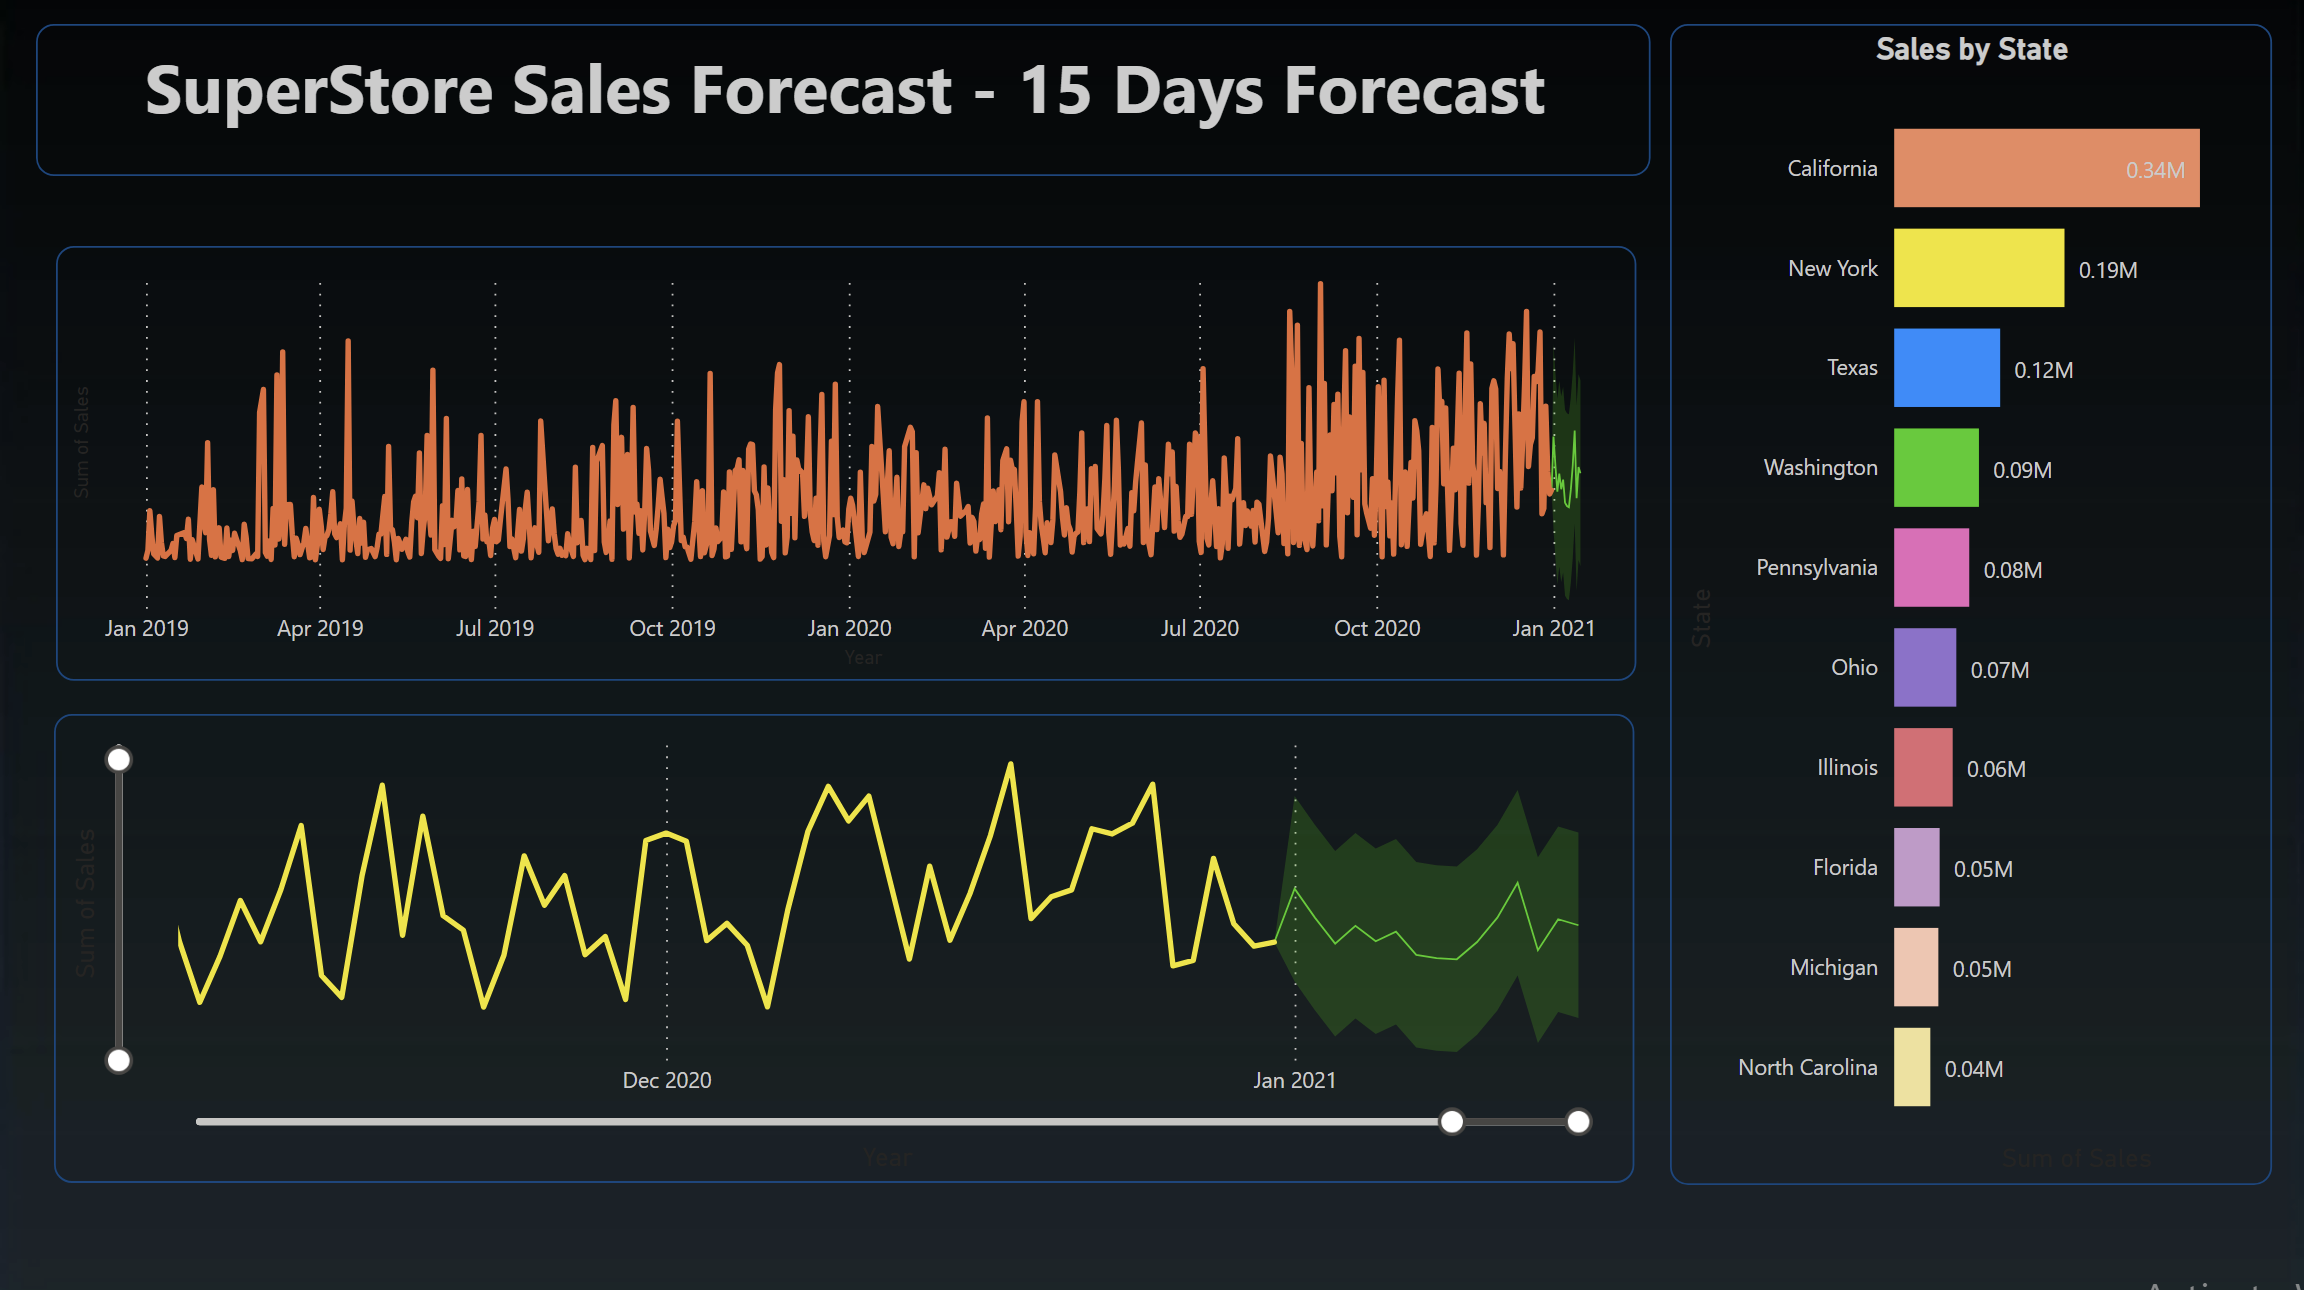

This screenshot's page, from the dashboard's own definition file:
{"tool":"powerbi","page":{"name":"Page 2","canvas":[1280,720],"ordinal":1},"visuals":[{"type":"textbox","box":[20.2,14.3,897,84.5],"z":0},{"type":"lineChart","fields":{"Y":["Sum(SuperStoreData.Sales)"],"Category":["SuperStoreData.Order Date.Variation.Date Hierarchy.Year","SuperStoreData.Order Date.Variation.Date Hierarchy.Quarter","SuperStoreData.Order Date.Variation.Date Hierarchy.Month","SuperStoreData.Order Date.Variation.Date Hierarchy.Day"]},"box":[30.9,138,877.9,241.5],"z":1},{"type":"lineChart","fields":{"Y":["Sum(SuperStoreData.Sales)"],"Category":["SuperStoreData.Order Date.Variation.Date Hierarchy.Year","SuperStoreData.Order Date.Variation.Date Hierarchy.Quarter","SuperStoreData.Order Date.Variation.Date Hierarchy.Month","SuperStoreData.Order Date.Variation.Date Hierarchy.Day"]},"box":[29.7,397.3,877.9,260.5],"z":2},{"type":"barChart","title":"Sales by State","fields":{"Category":["SuperStoreData.State"],"Y":["Sum(SuperStoreData.Sales)"]},"box":[927.9,14.3,334.3,644.8],"z":3}]}

Visuals, with their boxes in screenshot pixels (x1, y1, x2, y2), scaled from the page's 1280x720 canvas onto the 2304x1290 screenshot:
textbox: (36,26,1651,177)
lineChart - Sum(SuperStoreData.Sales) x SuperStoreData.Order Date.Variation.Date Hierarchy.Year: (56,247,1636,680)
lineChart - Sum(SuperStoreData.Sales) x SuperStoreData.Order Date.Variation.Date Hierarchy.Year: (53,712,1634,1179)
"Sales by State" barChart: (1670,26,2272,1181)
